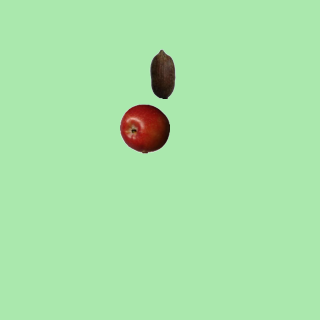Apple Braeburn: (119, 103, 169, 153)
Nut Pecan: (137, 48, 187, 98)
